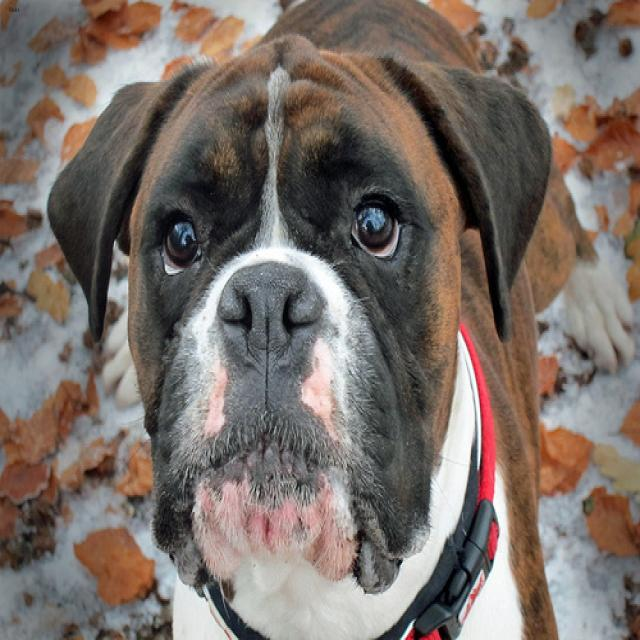dog-boxer: (41, 2, 637, 637)
